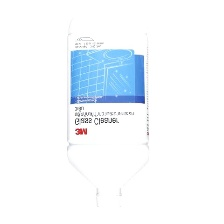cleaning_solution: (62, 9, 151, 211)
